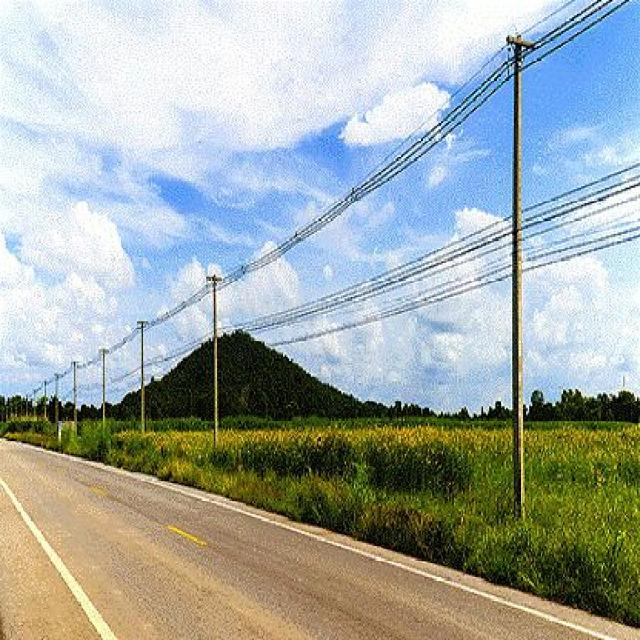non-critical vegetation: (478, 25, 552, 518), (198, 263, 238, 432)
